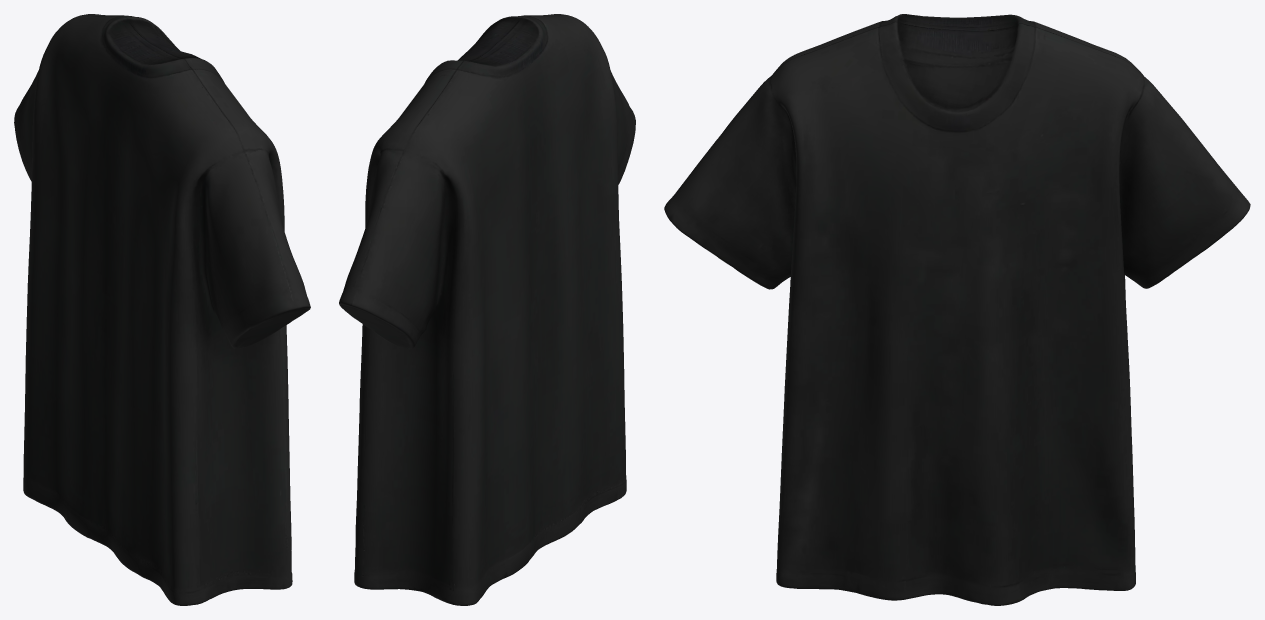
Rendered from black t shirt 3d model.glb.
3 renders of one model, left to right at view 1: azimuth 30°, elevation 25°; view 2: azimuth 150°, elevation 25°; view 3: azimuth 270°, elevation 25°, orthographic. The views are drawn at different scales.
Visible parts, largest first — view 1: tripo_node_610092bb; view 2: tripo_node_610092bb; view 3: tripo_node_610092bb.
Boxes of the visible parts, <box> form: tripo_node_610092bb: <box>14,14,310,605</box>; tripo_node_610092bb: <box>339,14,635,605</box>; tripo_node_610092bb: <box>664,14,1250,605</box>.
Bounding box in the file's own units: 31.78 × 99.89 × 98.59.
1 material, 1 textured.
